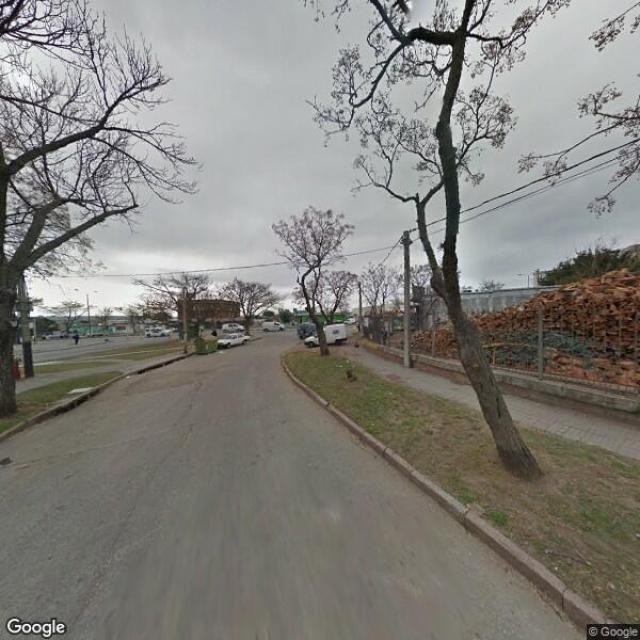garbage container: (192, 334, 223, 358)
